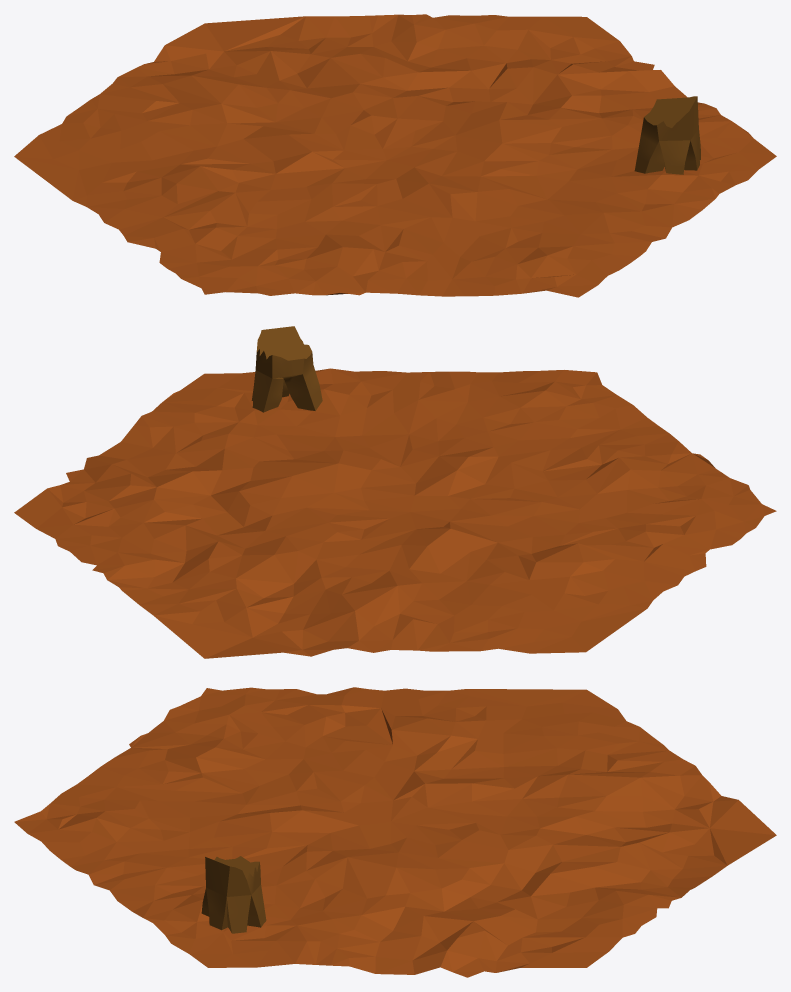
File: BarrenTireVersion.fbx
3 views of the same model, one above another, from view 1: azimuth 30°, elevation 25°; view 2: azimuth 150°, elevation 25°; view 3: azimuth 270°, elevation 25° (orthographic).
Parts seen in each view (by area): view 1: Cylinder.005, Stump; view 2: Cylinder.005, Stump; view 3: Cylinder.005, Stump.
Part boxes in pixels (bbox=[...]): Cylinder.005: bbox=[14, 14, 776, 297]; Stump: bbox=[634, 96, 700, 174]; Cylinder.005: bbox=[14, 368, 776, 658]; Stump: bbox=[251, 326, 322, 412]; Cylinder.005: bbox=[14, 687, 776, 977]; Stump: bbox=[201, 856, 266, 933].
Size of the model in its own units: 1.61 by 0.2637 by 1.83.
